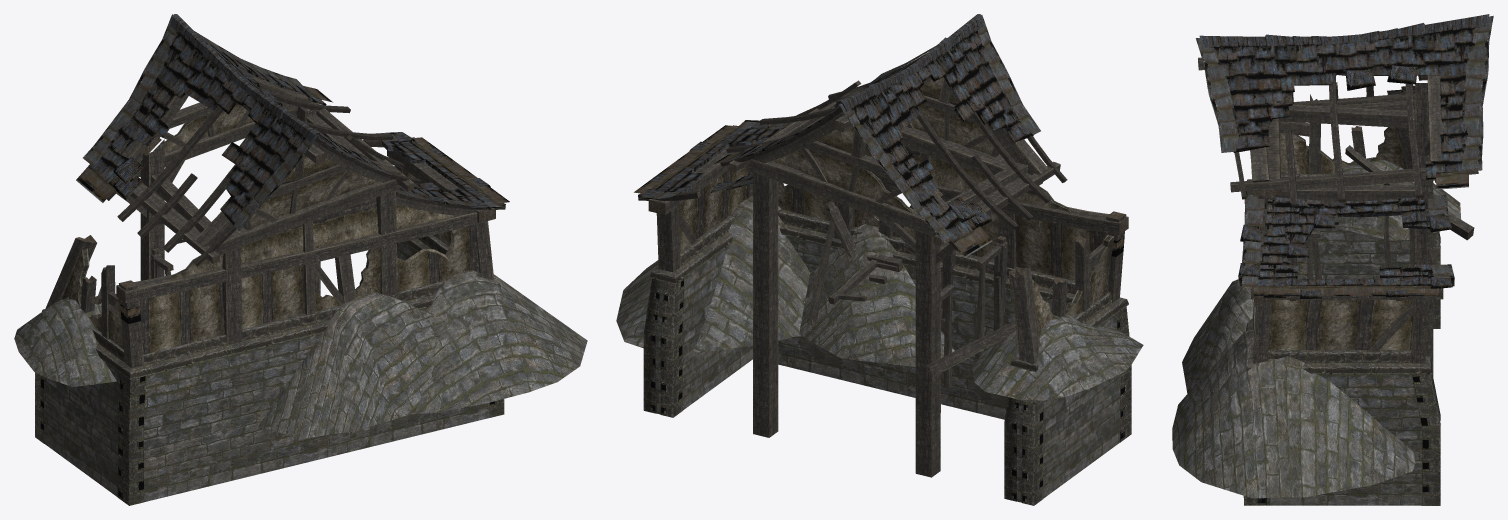
File: eso_gu5_RuinedStables-transformed.glb
The picture shows the model from 3 angles, left to right: view 1: azimuth 30°, elevation 25°; view 2: azimuth 150°, elevation 25°; view 3: azimuth 270°, elevation 25°; orthographic projection. The views are drawn at different scales.
Parts seen in each view (by area): view 1: default; view 2: default; view 3: default.
Part boxes in pixels (box(x1,y1,x2,y2)): default: box(14, 14, 587, 505); default: box(616, 14, 1143, 505); default: box(1172, 14, 1493, 505).
Bounding box in the file's own units: 22.91 × 15.84 × 12.03.
8 materials, 8 textured.
